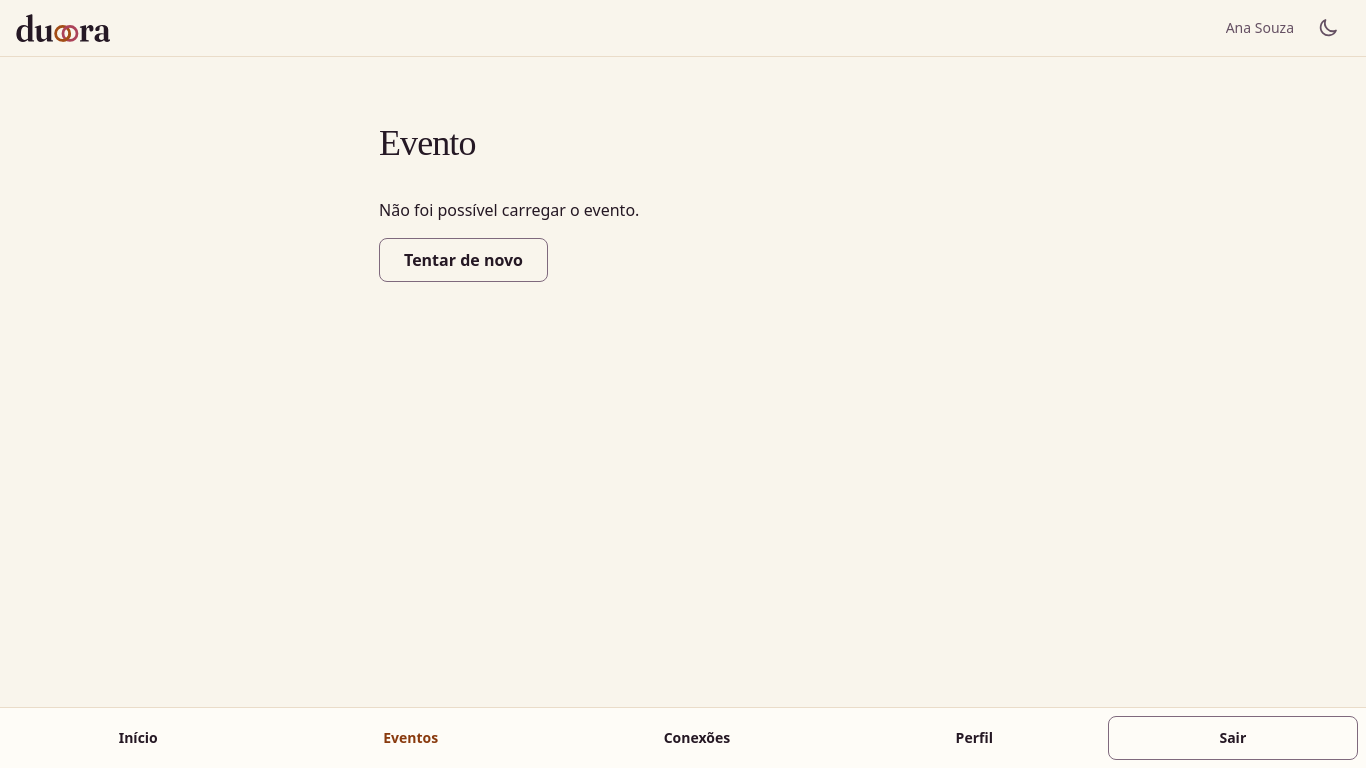
event page › offers to try again when the event could not be read
The image size is (1366, 768).
expect the text "Não foi possível carregar o evento." is shown: met, box [379, 198, 639, 222]
Click the button "Tentar de novo": x=464, y=260 [379, 238, 548, 282]
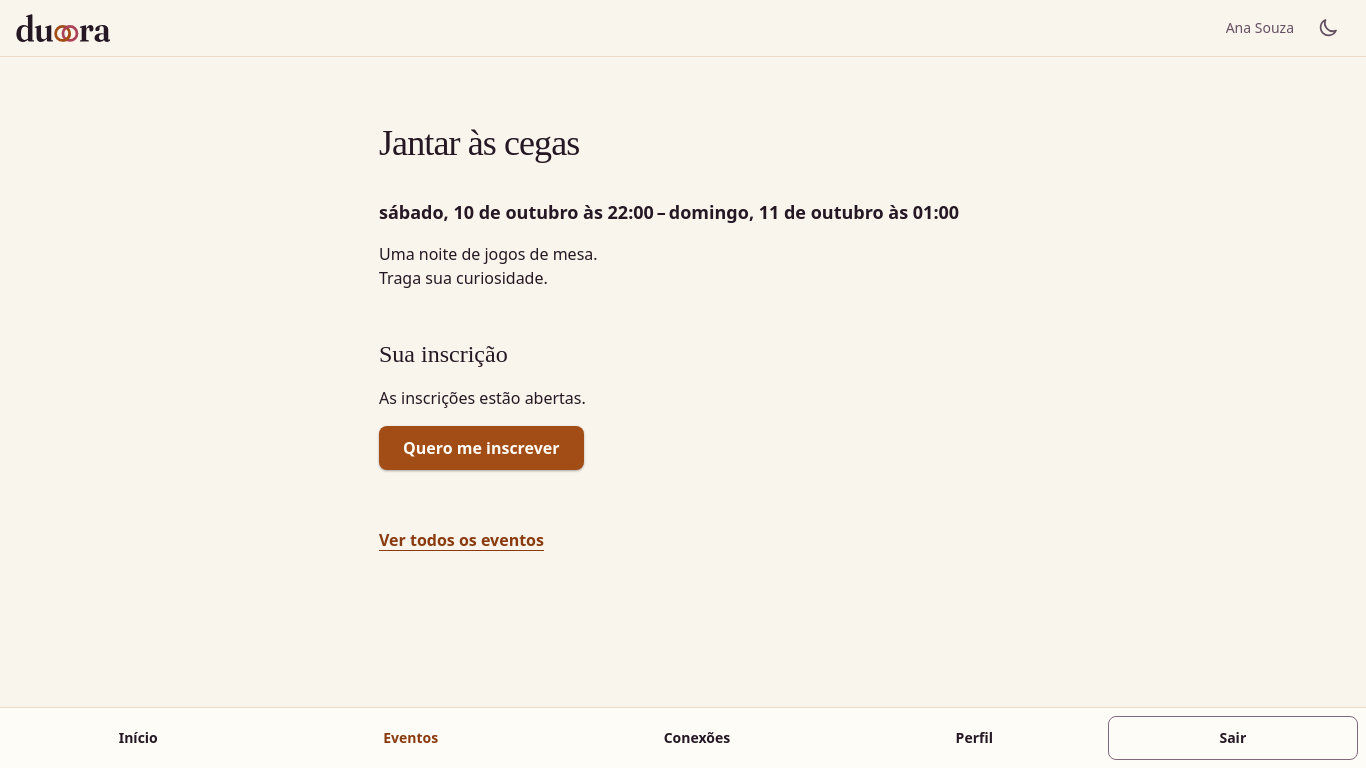
expect the heading "Jantar às cegas" is shown: met, box [379, 123, 579, 163]
